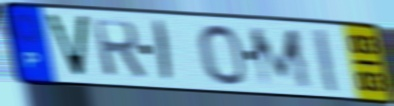I: (311, 26, 341, 94), (153, 18, 174, 85)
M: (246, 27, 315, 90)
O: (195, 22, 249, 88)
R: (90, 18, 150, 82)
V: (42, 11, 92, 81)
